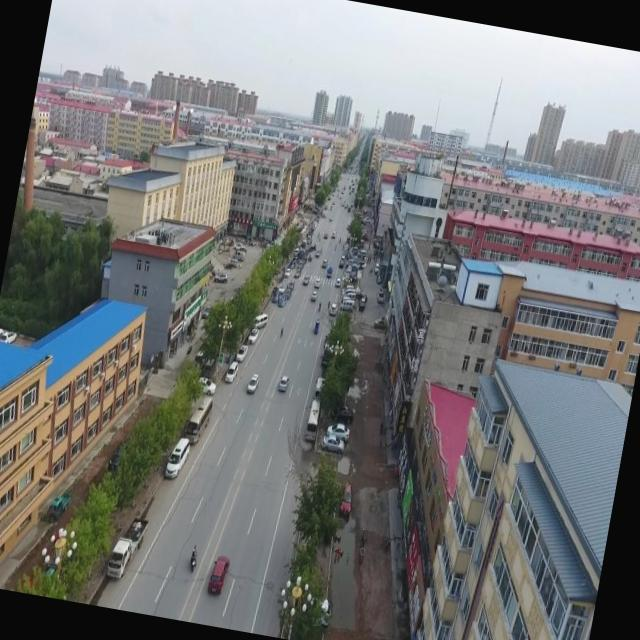bike: (188, 545, 200, 573), (278, 325, 284, 341), (316, 300, 322, 312)
bus: (183, 392, 214, 445), (302, 396, 324, 446)
car: (162, 436, 190, 482), (206, 552, 230, 596), (337, 478, 356, 518), (320, 432, 345, 456), (325, 422, 352, 442), (223, 358, 239, 384), (340, 292, 357, 312), (199, 380, 217, 398), (244, 371, 258, 394), (244, 326, 260, 346), (252, 310, 268, 328), (276, 374, 290, 393), (235, 343, 248, 362), (374, 285, 386, 305), (356, 292, 369, 310), (312, 376, 324, 395), (212, 270, 228, 284), (326, 298, 338, 316), (345, 262, 360, 274), (312, 317, 322, 334), (299, 273, 310, 287), (323, 266, 334, 280), (608, 367, 618, 382), (332, 276, 343, 289), (336, 254, 346, 268), (344, 285, 356, 296), (310, 289, 318, 302), (320, 258, 328, 270), (283, 267, 291, 278), (314, 278, 322, 288), (330, 230, 336, 239)
truck: (104, 512, 150, 585)
